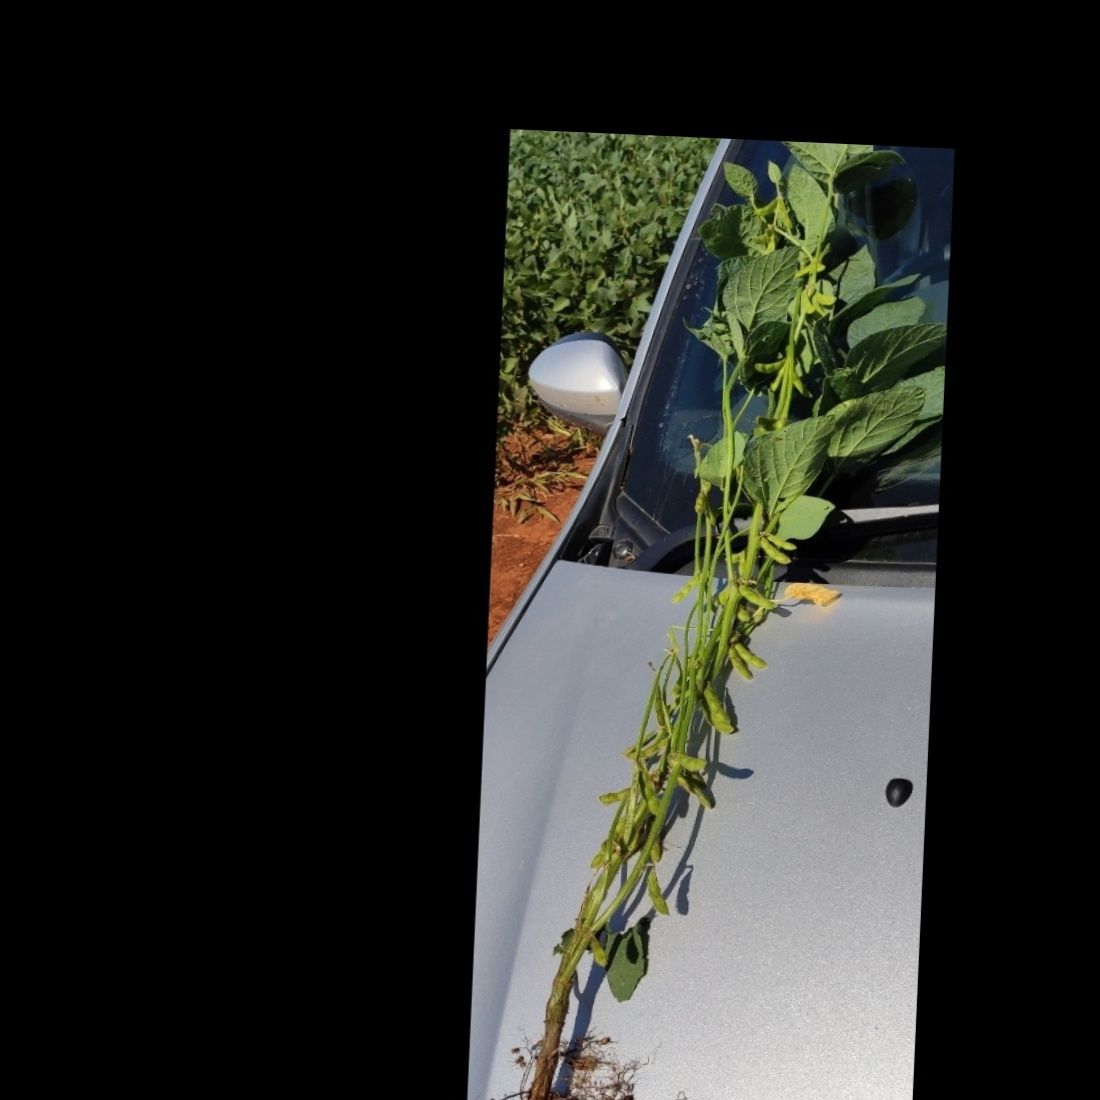pod: (666, 571, 707, 610), (641, 868, 671, 919), (751, 534, 793, 568), (728, 639, 770, 671), (724, 642, 754, 683), (737, 584, 777, 610), (748, 189, 785, 218), (760, 531, 800, 555), (747, 355, 792, 375), (773, 196, 796, 231), (595, 783, 630, 805), (793, 286, 818, 314)
soy: (476, 117, 929, 1100)
